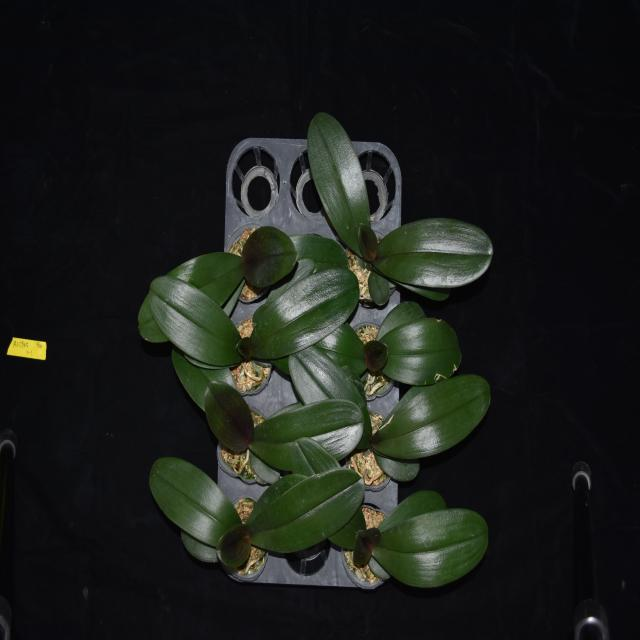leaf: (253, 265, 363, 360), (306, 103, 374, 256), (372, 372, 493, 456), (147, 268, 243, 373), (370, 506, 488, 590), (140, 247, 242, 344), (250, 469, 366, 553), (151, 450, 241, 550), (254, 394, 367, 470), (286, 345, 370, 445), (292, 433, 365, 548), (374, 222, 494, 283), (380, 316, 464, 384), (273, 320, 368, 376), (174, 335, 238, 405), (200, 377, 256, 455), (241, 222, 301, 293), (252, 471, 311, 524), (380, 486, 448, 530), (291, 231, 347, 278), (262, 257, 315, 305), (371, 300, 422, 338), (180, 522, 223, 566), (216, 522, 251, 573), (348, 524, 382, 570), (375, 452, 421, 483), (388, 282, 449, 302), (359, 215, 379, 266), (362, 338, 390, 372), (368, 270, 392, 308), (236, 335, 253, 362)
